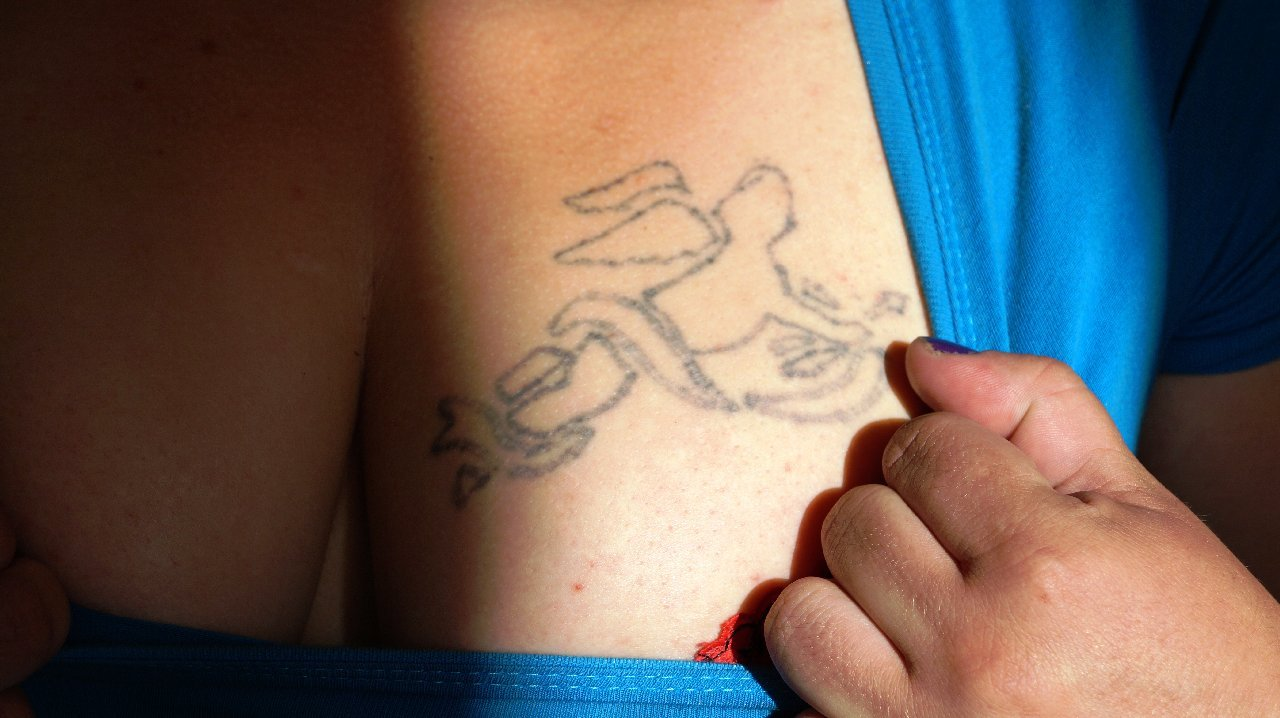tatu1_angel: (404, 152, 956, 521)
